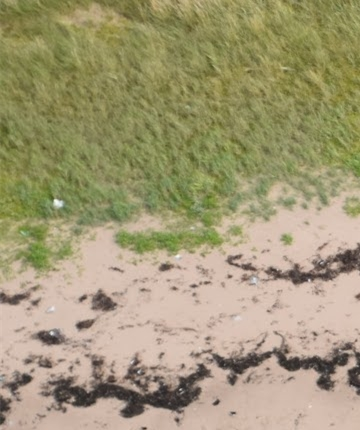white_in_green: (39, 187, 76, 222)
